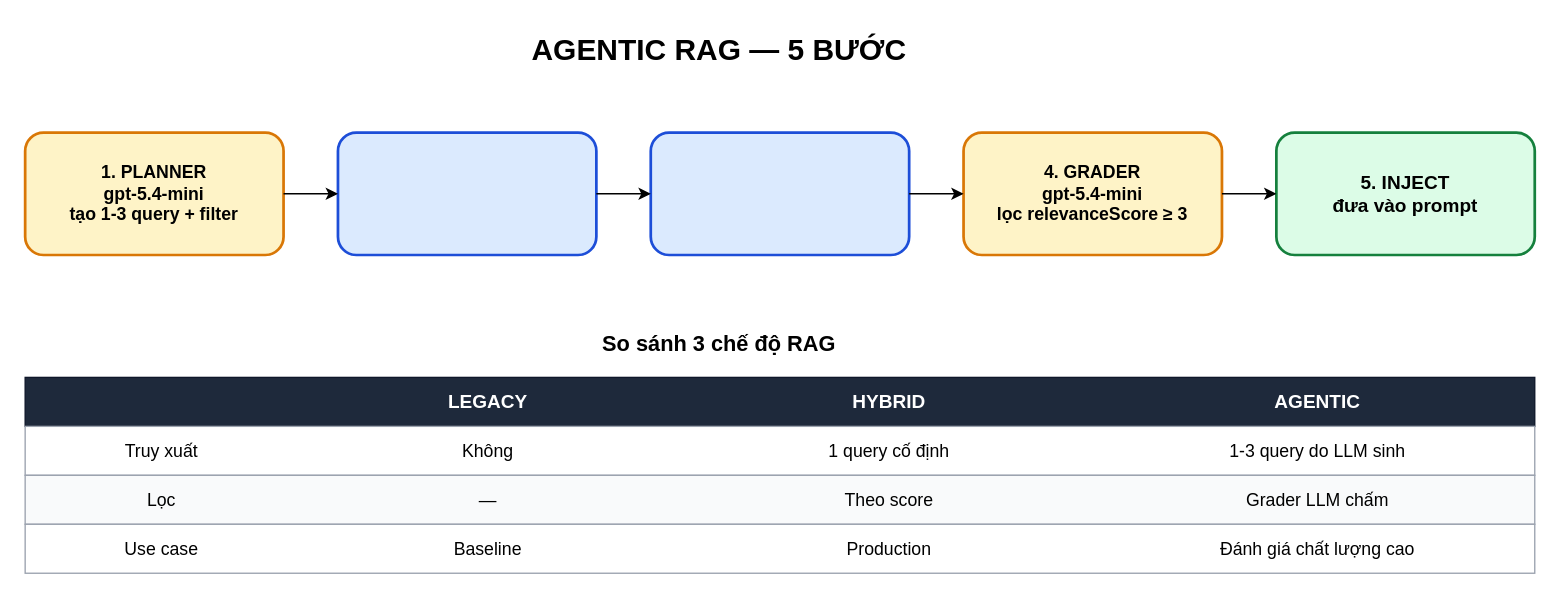
The diagram is 1559 pixels wide and 597 high, and some of its shapes have lost their labels. The shapes that lost their labels are listed below. From the top down, each one's box as (x1, y1, x2, y2) in pixels, then its label:
(336, 131, 597, 256): 2. HYBRID RETRIEVAL mỗi query → vector + lexical + boost
(649, 131, 910, 256): 3. MERGE gộp theo id, giữ max score
